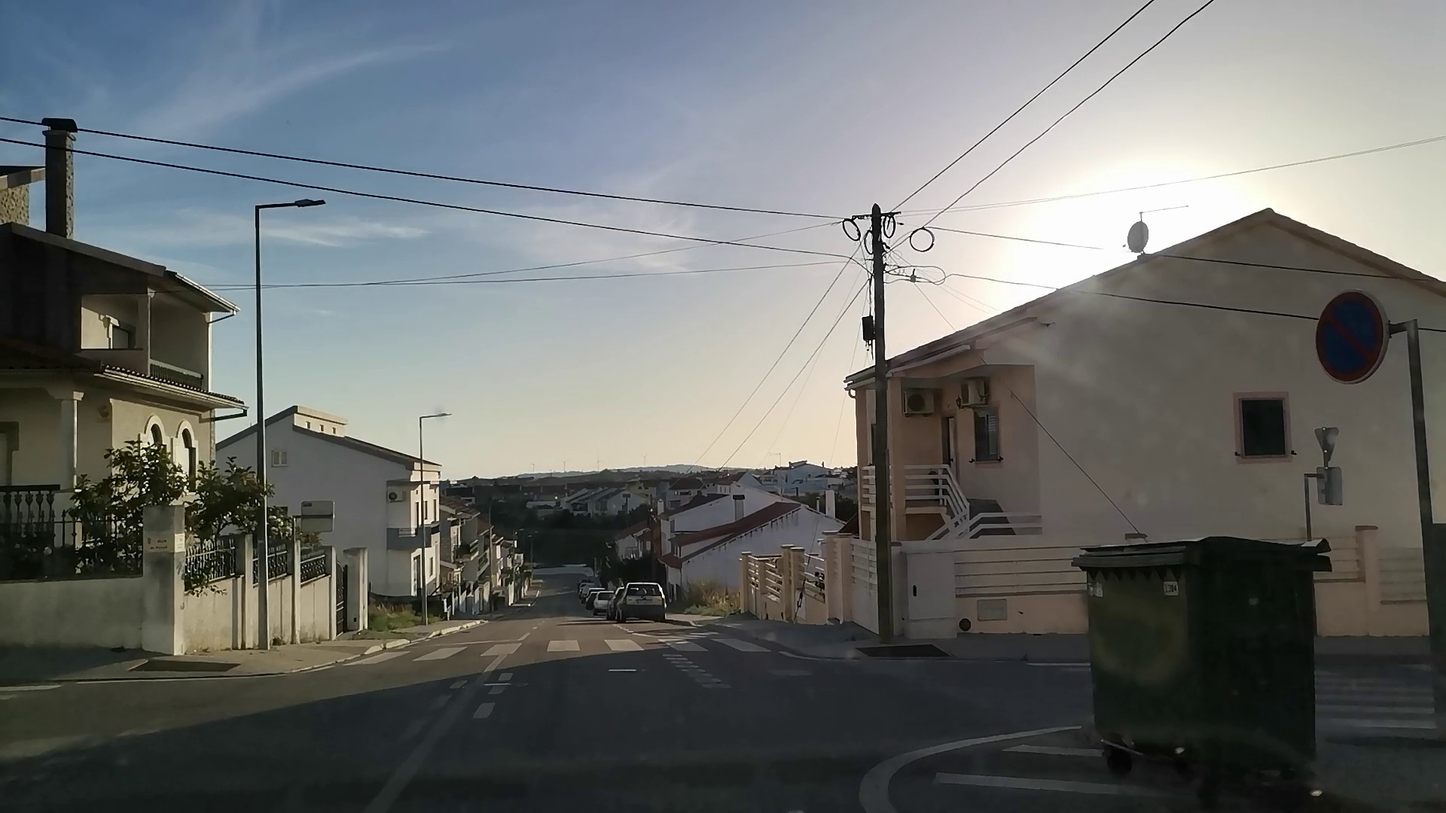Stairs: (354, 637, 777, 661)
